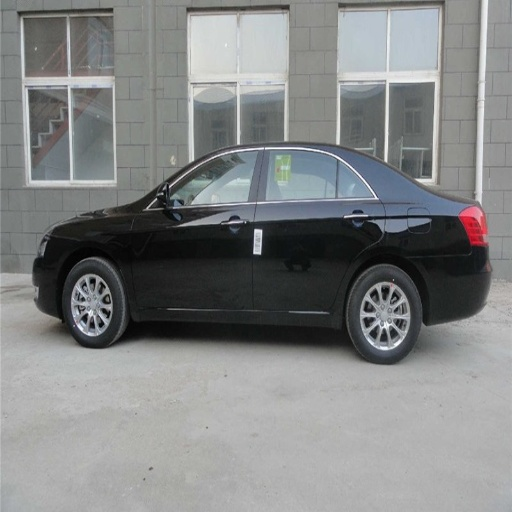back_left_door: (252, 148, 382, 312)
